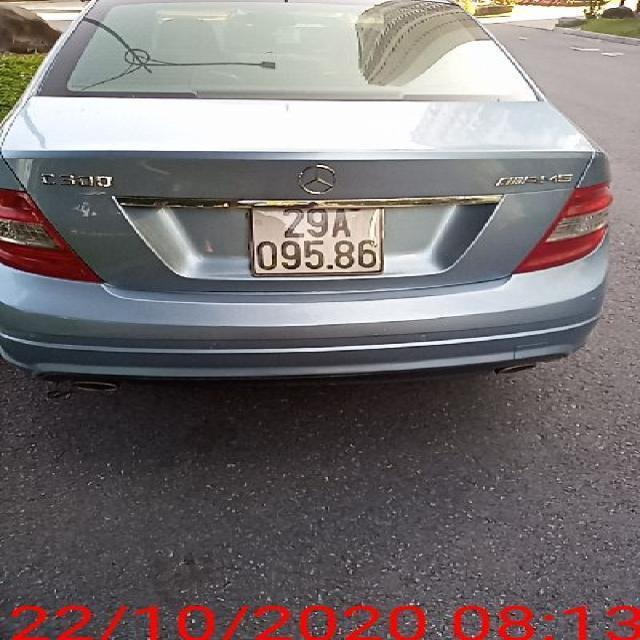bien_so_oto: (248, 206, 388, 276)
